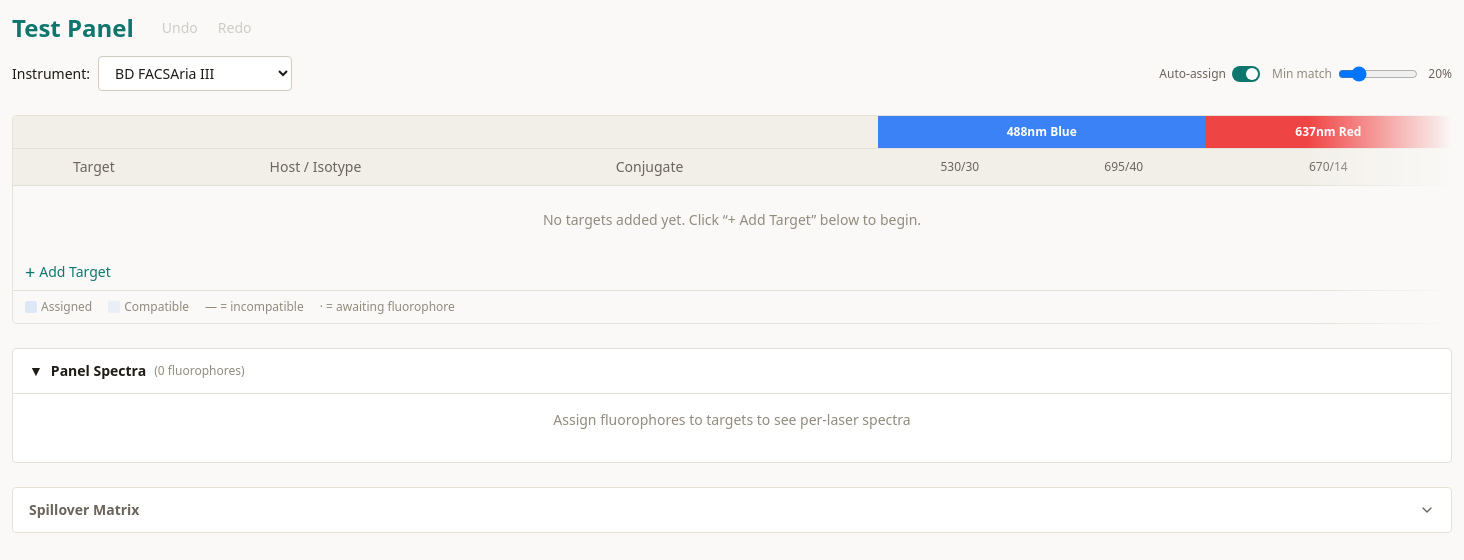
Test: PanelDesignerView › panel name › clicking the name heading enters edit mode (shows input)
Click the heading "Test Panel" at (73, 28), box [12,12,134,44]
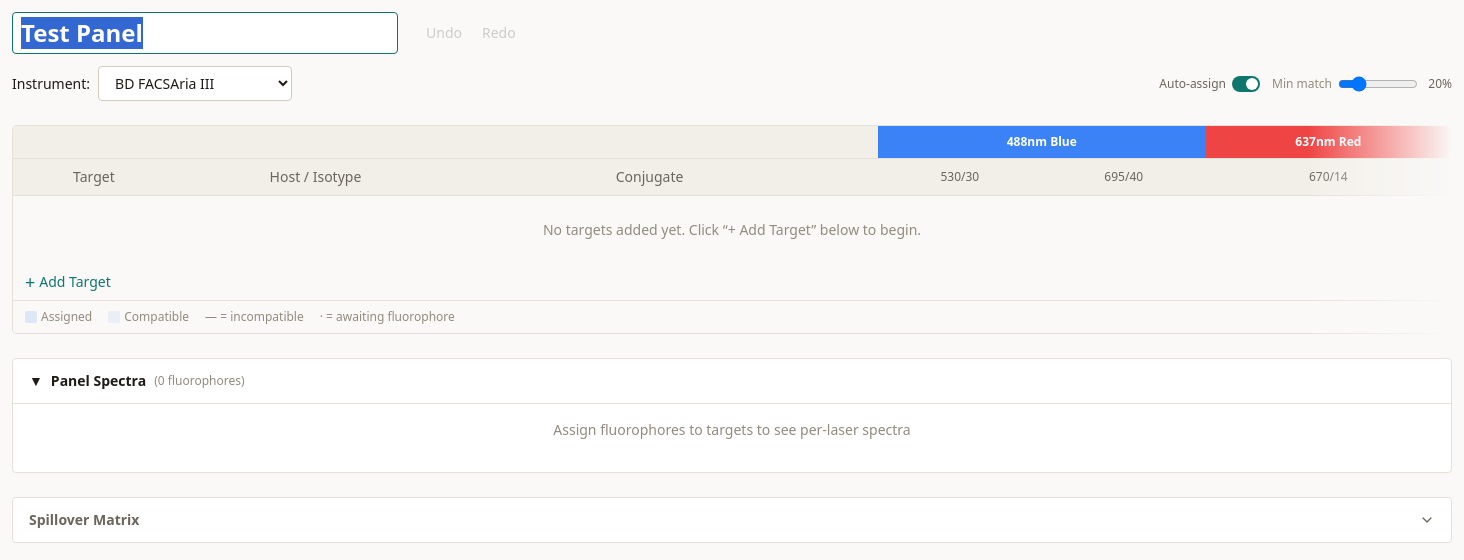
Now the field holds "Test Panel", box [12,12,398,54]
